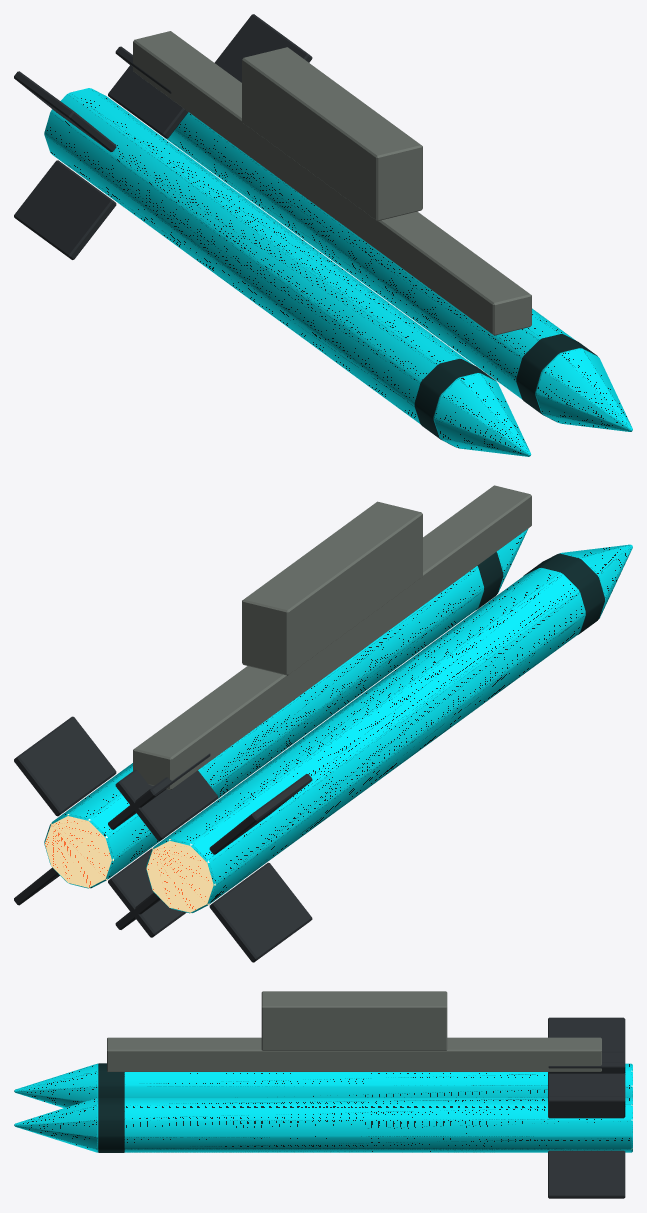
The model's file is Rack_HomingMissiles.fbx.
The picture shows the model from 3 angles, top to bottom: view 1: azimuth 30°, elevation 25°; view 2: azimuth 150°, elevation 25°; view 3: azimuth 270°, elevation 25°; orthographic projection. The views are drawn at different scales.
Parts seen in each view (by area): view 1: Rack_HomingMissiles; view 2: Rack_HomingMissiles; view 3: Rack_HomingMissiles.
Part boxes in pixels (x1=…): Rack_HomingMissiles: x1=14, y1=14, x2=632, y2=456; Rack_HomingMissiles: x1=14, y1=485, x2=632, y2=962; Rack_HomingMissiles: x1=14, y1=991, x2=632, y2=1198.
Bounding box in the file's own units: 0.6223 × 0.5712 × 2.
